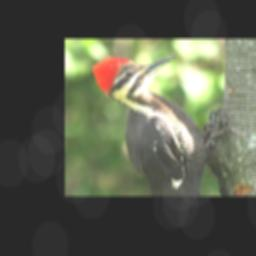Woodpecker: (93, 53, 228, 195)
